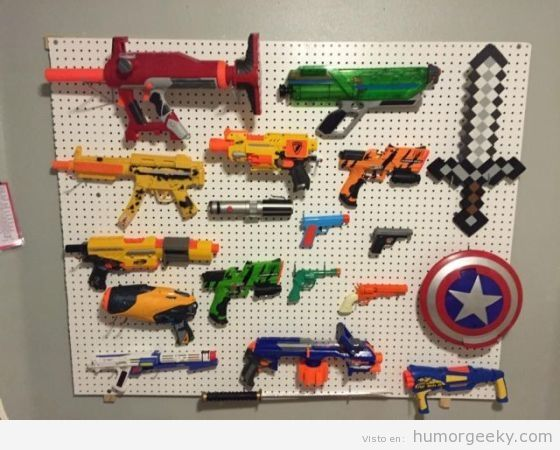Arma Falsa: (44, 34, 270, 135), (278, 57, 449, 139), (47, 147, 210, 222), (238, 324, 390, 390), (61, 232, 220, 286), (207, 128, 323, 197), (332, 142, 435, 206), (190, 255, 289, 319), (399, 362, 513, 413), (80, 349, 226, 387), (335, 274, 420, 321), (290, 260, 340, 319), (294, 210, 355, 254), (370, 223, 419, 263)
